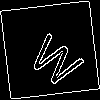W: (25, 25, 91, 91)
